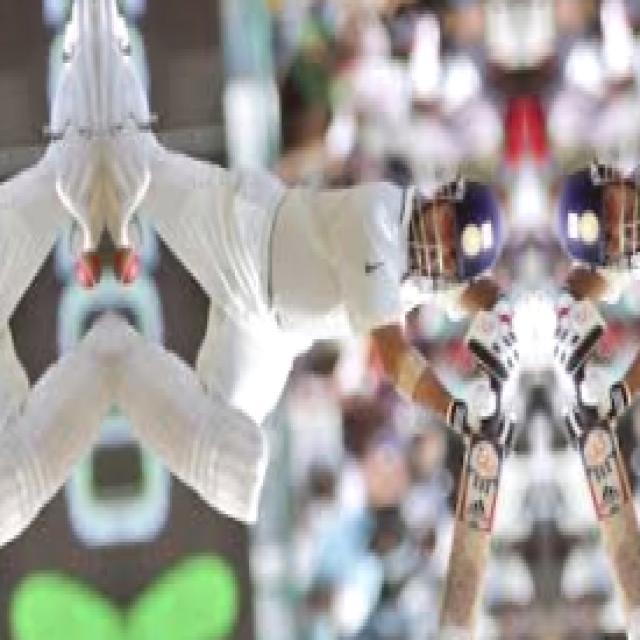bat: (421, 442, 524, 635)
